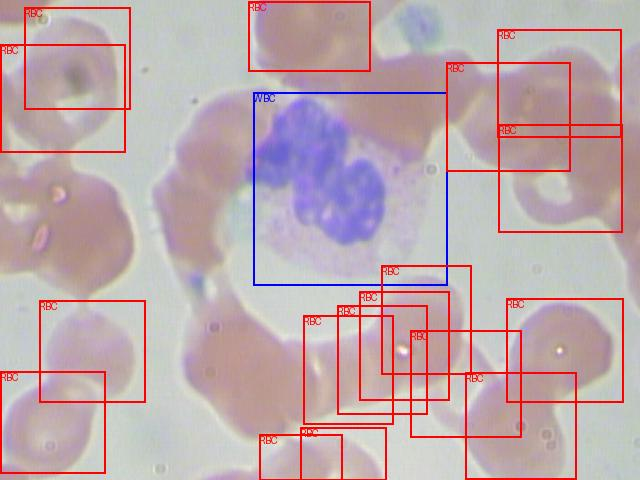RBC: (446, 62, 570, 171), (0, 44, 125, 152), (498, 124, 622, 232), (497, 29, 621, 137), (506, 298, 623, 402), (465, 372, 576, 479), (410, 330, 521, 437), (39, 300, 145, 402), (24, 7, 130, 109), (0, 371, 105, 473), (381, 265, 471, 374), (359, 291, 449, 400), (337, 305, 427, 414), (303, 315, 393, 424), (248, 1, 370, 71), (300, 427, 386, 480), (259, 434, 342, 480)
WBC: (253, 92, 447, 285)
